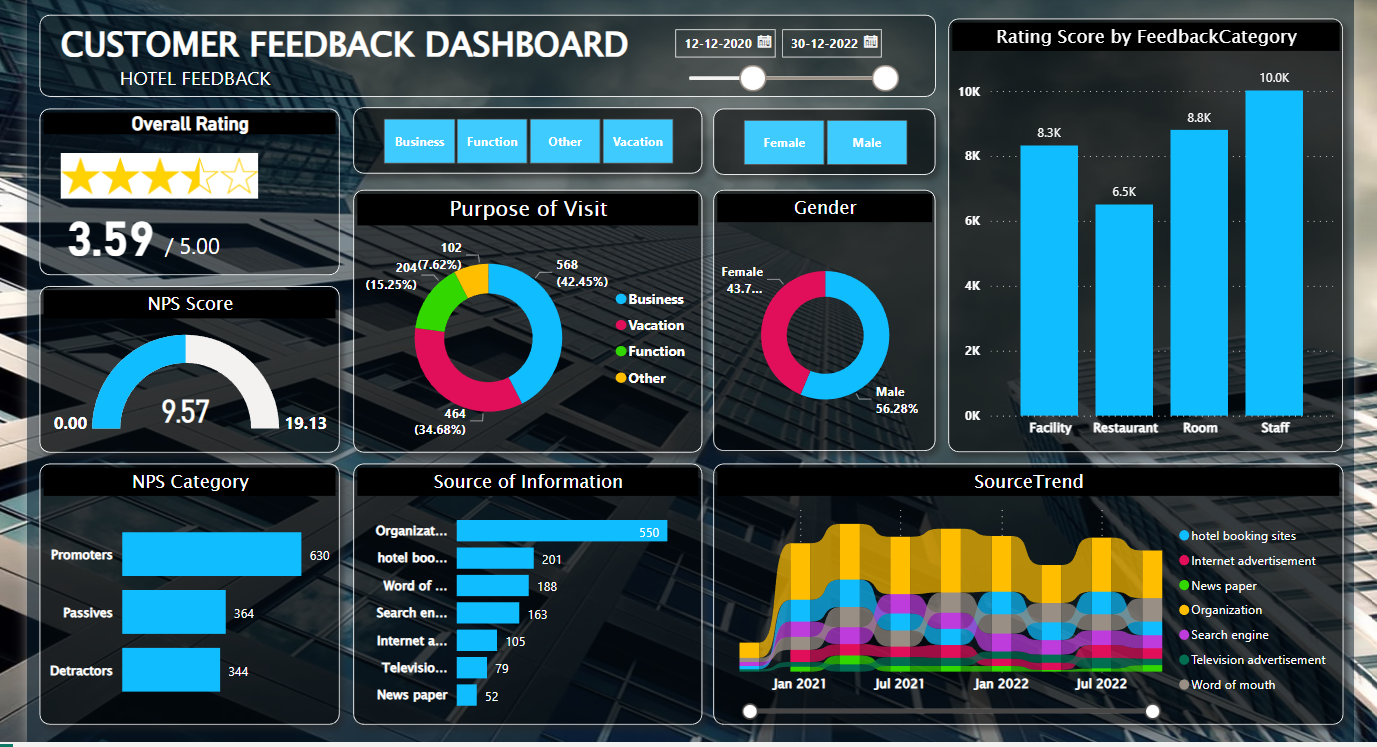

This screenshot's page, from the dashboard's own definition file:
{"tool":"powerbi","page":{"name":"Page 1","canvas":[1280,720],"ordinal":0},"visuals":[{"type":"shape","box":[12.1,18.1,864.7,79.6],"z":0},{"type":"shape","title":"Overall Rating","box":[12.1,108.5,289.4,160.4],"z":1000},{"type":"slicer","fields":{"Values":["Feedback (2).Purpose"]},"box":[314.8,107.3,336.5,63.9],"z":2000},{"type":"slicer","fields":{"Values":["Feedback (2).Gender"]},"box":[662.1,108.5,214.7,63.9],"z":3000},{"type":"gauge","fields":{"Y":["Feedback (2).NPS Score"]},"box":[12.1,279.8,289.4,160.4],"z":4000},{"type":"clusteredBarChart","title":"NPS Category","fields":{"Category":["Feedback (2).NPS"],"Y":["CountNonNull(Feedback (2).NPS)"]},"box":[12.1,451.1,289.4,252.1],"z":5000},{"type":"donutChart","title":"Purpose of Visit","fields":{"Category":["Feedback (2).Purpose"],"Y":["CountNonNull(Feedback (2).Purpose)"]},"box":[314.8,186.9,336.5,253.3],"z":6000},{"type":"donutChart","title":" Gender","fields":{"Y":["CountNonNull(Feedback (2).Gender)"],"Category":["Feedback (2).Gender"]},"box":[662.1,186.9,214.7,252.1],"z":7000},{"type":"clusteredBarChart","title":"Source of Information","fields":{"Category":["Feedback (2).Source"],"Y":["CountNonNull(Feedback (2).Source)"]},"box":[314.8,451.1,336.5,252.1],"z":8000},{"type":"ribbonChart","title":"SourceTrend","fields":{"Series":["Feedback (2).Source"],"Y":["CountNonNull(Feedback (2).Source)"],"Category":["Feedback (2).Checkout Date (bins)"]},"box":[662.1,451.1,607.8,252.1],"z":9000},{"type":"clusteredColumnChart","title":"Rating Score by FeedbackCategory","fields":{"Category":["Feedback.Feedback","Feedback.FeedbackCategory"],"Y":["Sum(Feedback.Rating Score)"]},"box":[888.8,21.7,381.1,418.5],"z":10000},{"type":"card","fields":{"Values":["Avg(Feedback (2).Overall Experience)"]},"box":[0,178.5,161.6,101.3],"z":11000},{"type":"textbox","box":[127.8,220.7,120.6,59.1],"z":12000},{"type":"image","box":[27.7,141.1,200.2,65.1],"z":13001},{"type":"textbox","box":[0,18.1,612.7,63.9],"z":13002},{"type":"textbox","box":[53.1,61.5,218.3,39.8],"z":13003},{"type":"slicer","fields":{"Values":["Feedback (2).Checkout Date"]},"box":[612.7,21.7,236.4,79.6],"z":13004}]}

Visuals, with their boxes in screenshot pixels (x1, y1, x2, y2):
shape: box=[20, 12, 936, 96]
"Overall Rating" shape: box=[20, 108, 327, 278]
slicer - Feedback (2).Purpose: box=[341, 106, 697, 174]
slicer - Feedback (2).Gender: box=[708, 108, 936, 175]
gauge - Feedback (2).NPS Score: box=[20, 289, 327, 459]
"NPS Category" clusteredBarChart: box=[20, 471, 327, 738]
"Purpose of Visit" donutChart: box=[341, 191, 697, 459]
" Gender" donutChart: box=[708, 191, 936, 458]
"Source of Information" clusteredBarChart: box=[341, 471, 697, 738]
"SourceTrend" ribbonChart: box=[708, 471, 1352, 738]
"Rating Score by FeedbackCategory" clusteredColumnChart: box=[949, 16, 1352, 459]
card - Avg(Feedback (2).Overall Experience): box=[7, 182, 178, 289]
textbox: box=[143, 227, 270, 289]
image: box=[37, 142, 249, 211]
textbox: box=[7, 12, 656, 80]
textbox: box=[63, 58, 295, 100]
slicer - Feedback (2).Checkout Date: box=[656, 16, 907, 100]
